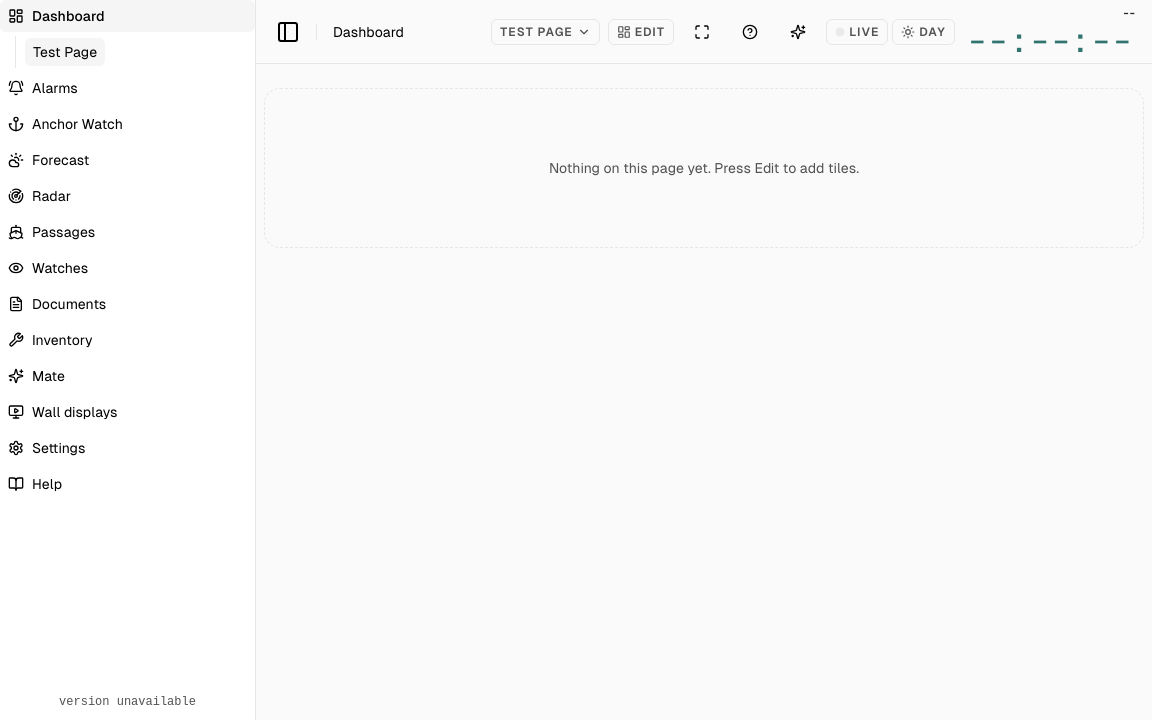
Test: creating a dashboard page › names the new page in place: no dialog, an empty focused field with a placeholder
The width and height of the screenshot is (1152, 720).
Click the button with aria-label "Switch dashboard page" at (545, 32), box [491,18,600,44]
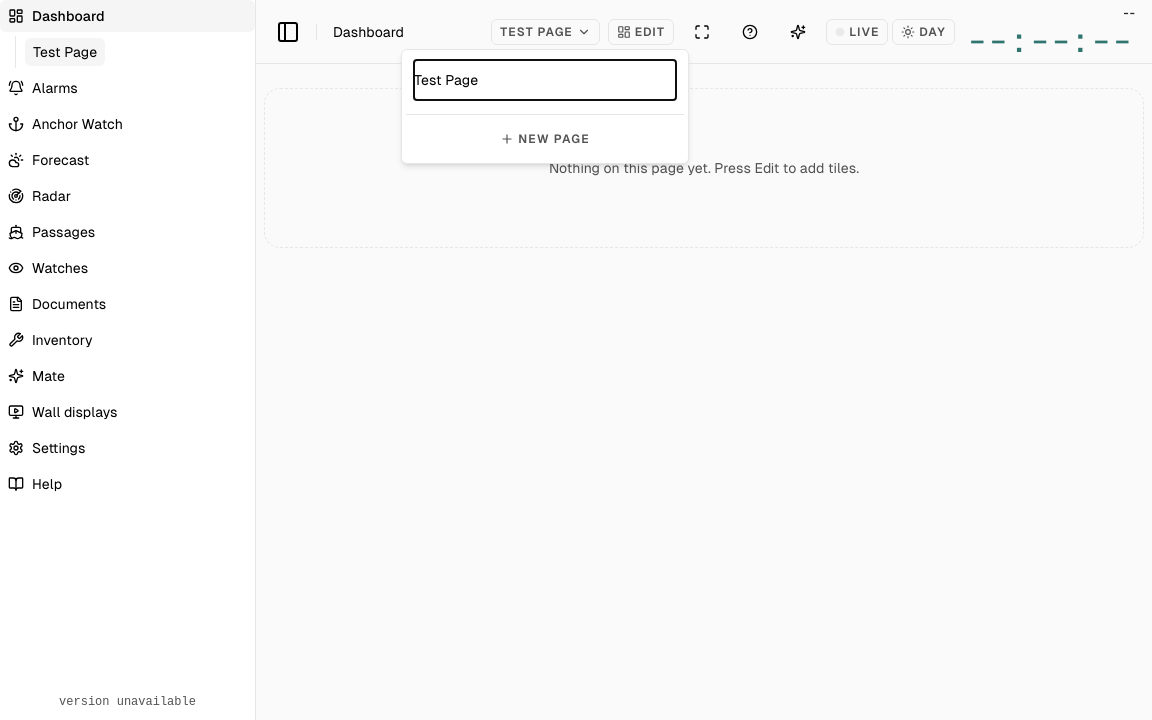
Click the button "New Page" at (545, 139), box [406,119,684,159]
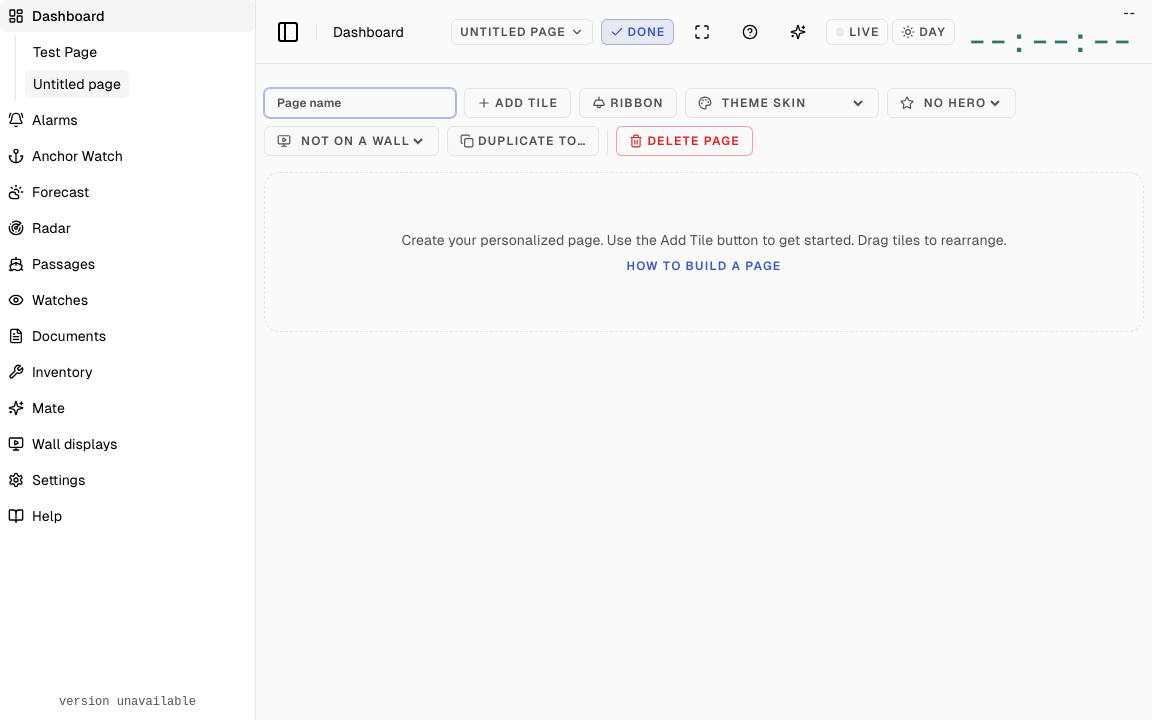
Expected: the field labelled "Page name" is empty, [264,88,456,118]
Expected: the dialog is gone
